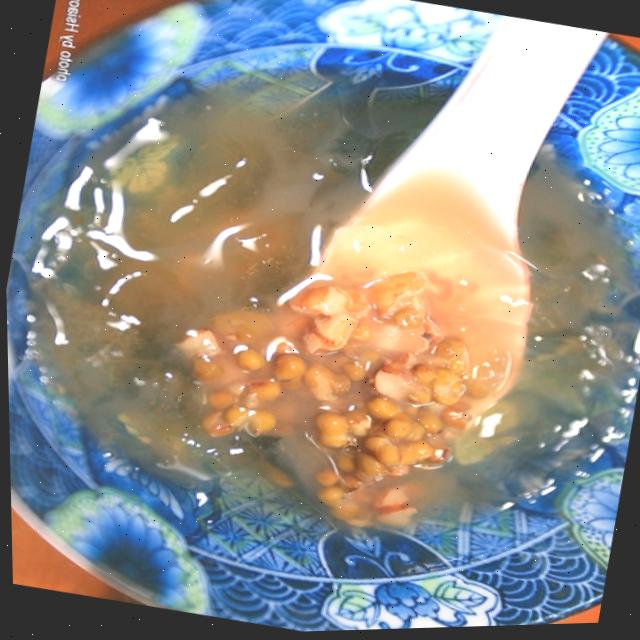蛋糕甜品: (4, 0, 640, 592)
